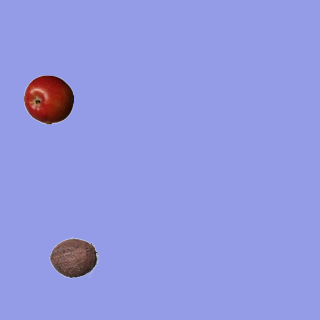Apple Braeburn: (23, 74, 73, 124)
Cocos: (48, 232, 98, 282)
